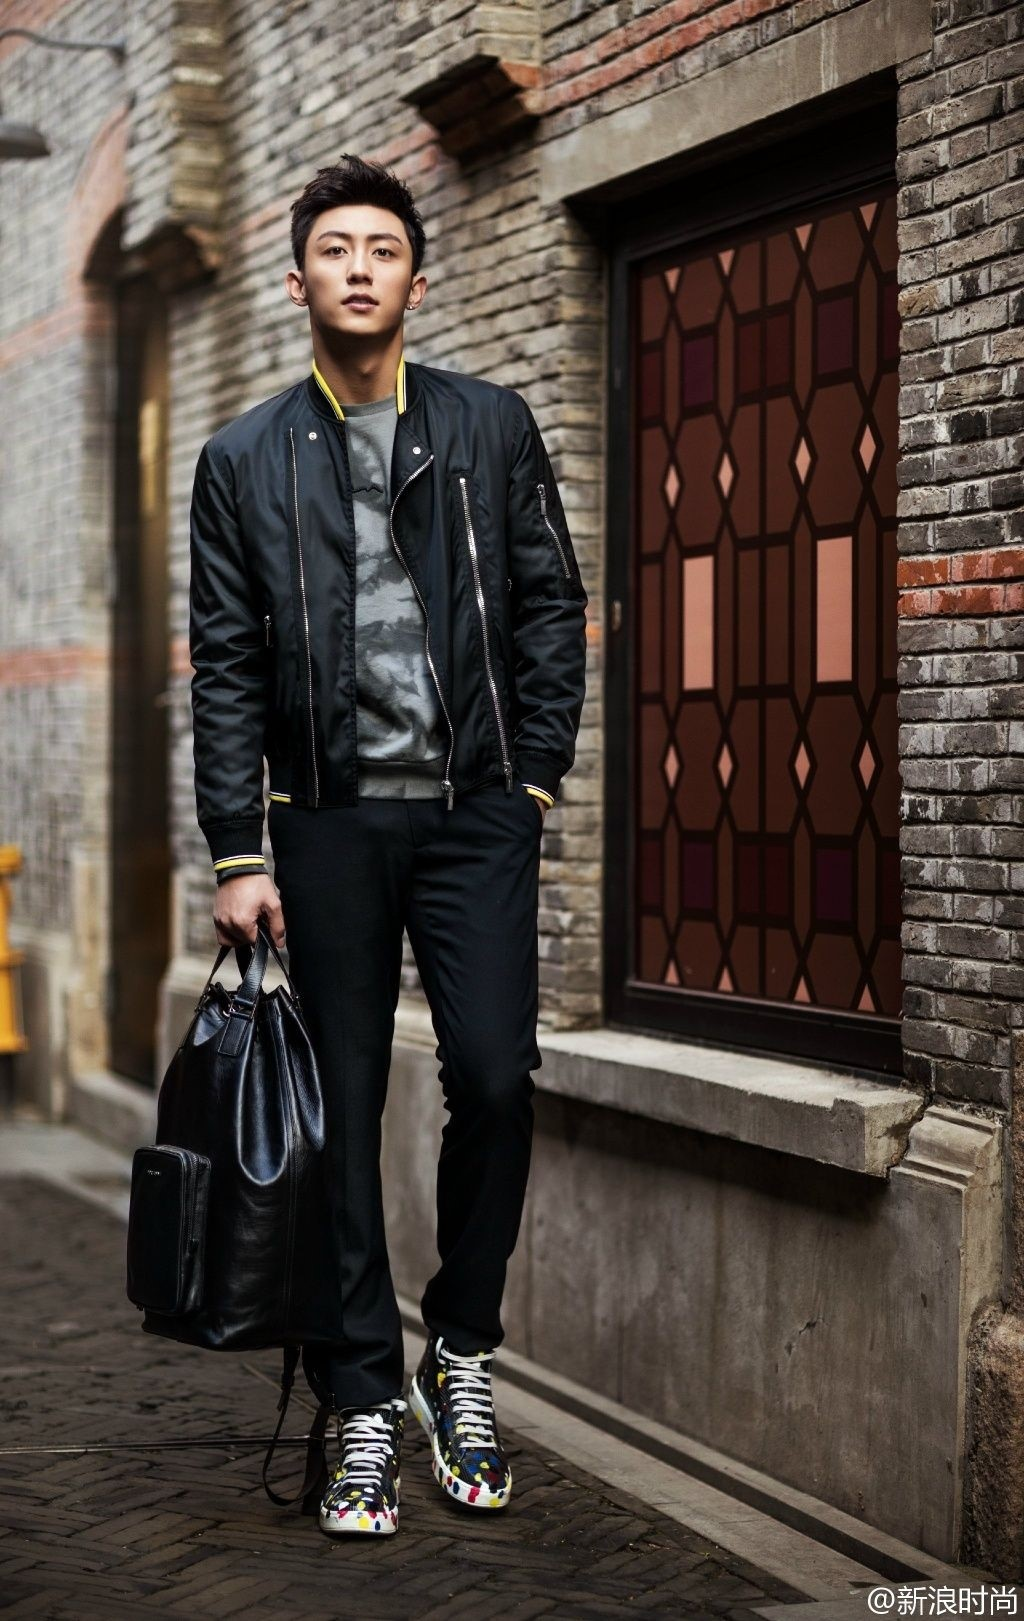face_no_mask: (284, 162, 427, 335)
